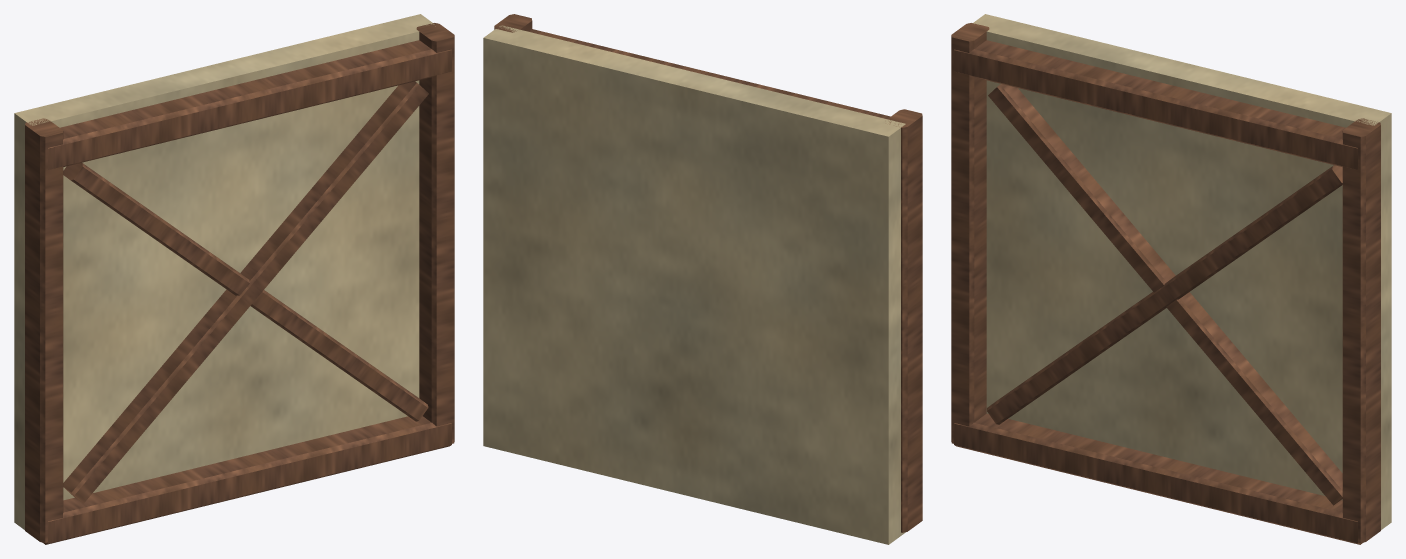
File: wall_braced.glb
3 views of the same model, side by side, from view 1: azimuth 30°, elevation 25°; view 2: azimuth 150°, elevation 25°; view 3: azimuth 330°, elevation 25° (orthographic).
Parts seen in each view (by area): view 1: Wall Braced; view 2: Wall Braced; view 3: Wall Braced.
Boxes of the visible parts, x1,y1,x2,y2 form: Wall Braced: [14, 14, 454, 544]; Wall Braced: [483, 14, 922, 544]; Wall Braced: [951, 14, 1391, 544].
Bounding box in the file's own units: 3.26 × 3.09 × 0.444.
Materials: 2 (2 with a texture image).
